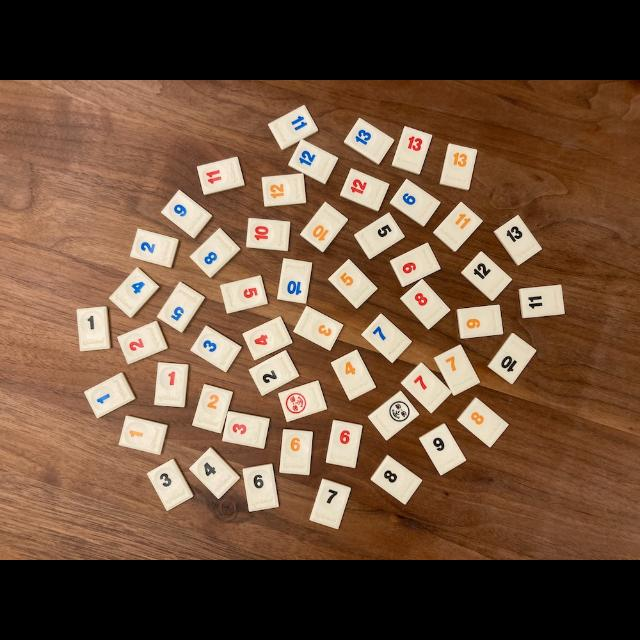black_1: (76, 306, 109, 351)
black_10: (489, 332, 536, 384)
black_11: (519, 285, 565, 319)
black_12: (461, 251, 511, 300)
black_13: (494, 215, 541, 265)
black_2: (249, 350, 299, 395)
black_3: (148, 459, 194, 511)
black_4: (189, 448, 240, 499)
black_5: (354, 212, 405, 259)
black_6: (242, 464, 278, 511)
black_7: (310, 479, 351, 529)
black_8: (372, 455, 422, 504)
black_9: (419, 424, 466, 475)
blue_1: (84, 372, 135, 418)
blue_10: (278, 259, 312, 304)
blue_11: (269, 105, 318, 150)
blue_12: (289, 140, 338, 184)
blue_13: (344, 118, 394, 164)
blue_2: (130, 229, 179, 267)
blue_3: (191, 326, 241, 371)
blue_4: (110, 268, 159, 318)
blue_5: (158, 282, 205, 332)
blue_6: (391, 179, 440, 226)
blue_7: (362, 314, 411, 362)
blue_8: (190, 229, 240, 278)
blue_9: (161, 190, 211, 238)
joker: (368, 391, 419, 440), (278, 381, 328, 421)
orange_1: (119, 416, 168, 455)
orange_10: (300, 202, 348, 251)
orange_11: (434, 202, 482, 251)
orange_12: (262, 174, 306, 206)
orange_13: (440, 144, 478, 190)
orange_2: (193, 384, 232, 434)
orange_3: (294, 306, 344, 350)
orange_4: (331, 350, 376, 400)
orange_5: (329, 259, 378, 309)
orange_6: (279, 429, 312, 475)
orange_7: (434, 345, 480, 395)
orange_8: (458, 398, 509, 446)
orange_9: (456, 305, 504, 339)
red_1: (154, 362, 189, 408)
red_10: (247, 218, 289, 251)
red_11: (198, 156, 245, 195)
red_12: (341, 169, 389, 211)
red_13: (392, 127, 432, 175)
red_2: (118, 321, 168, 364)
red_3: (223, 411, 270, 449)
red_4: (242, 316, 292, 360)
red_5: (221, 275, 268, 314)
red_6: (326, 420, 362, 468)
red_7: (401, 362, 451, 412)
red_8: (401, 280, 450, 329)
red_9: (391, 242, 441, 286)
